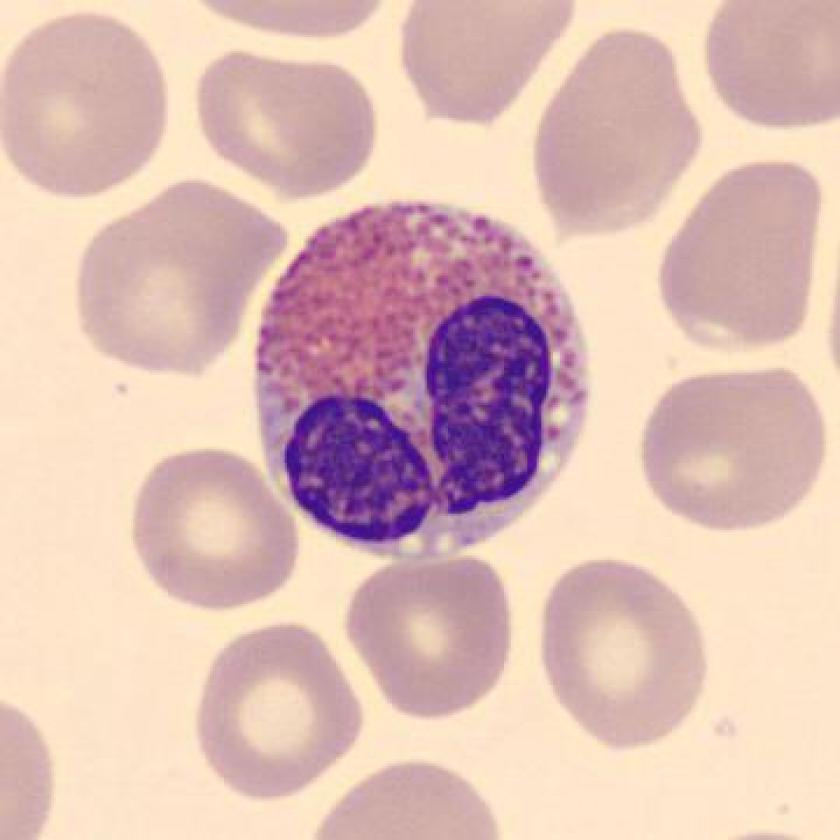eosinophil: (237, 184, 601, 573)
